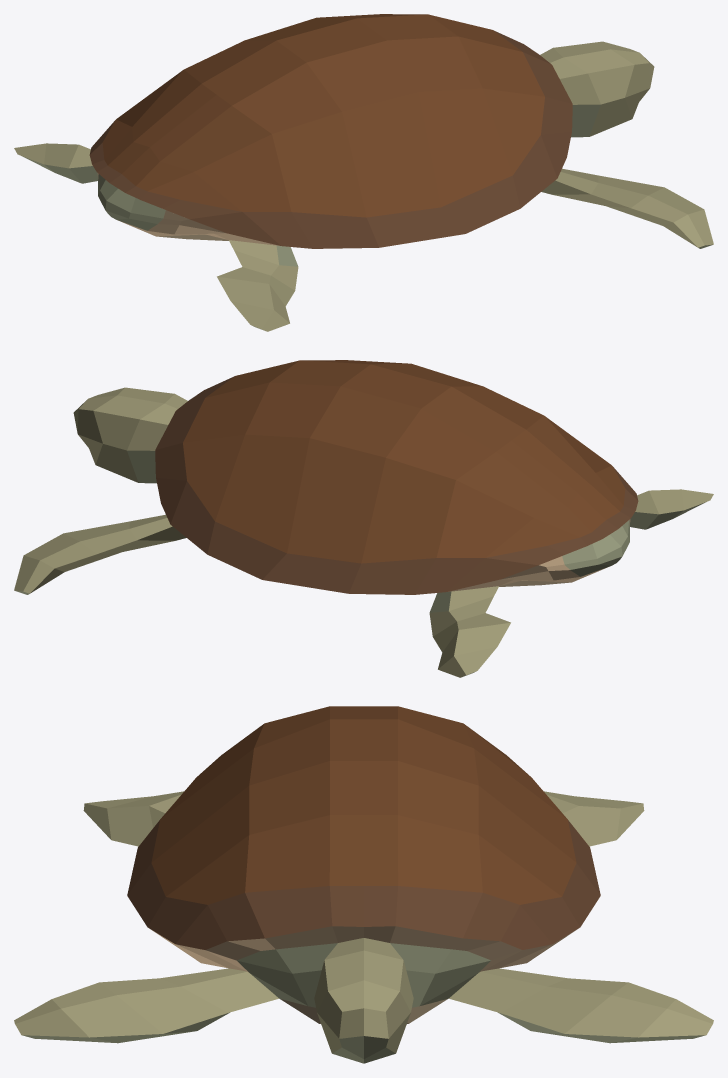
The model's file is turtle.glb.
3 renders of one model, top to bottom at view 1: azimuth 30°, elevation 25°; view 2: azimuth 150°, elevation 25°; view 3: azimuth 270°, elevation 25°, orthographic. The views are drawn at different scales.
Visible parts, largest first — view 1: Plane.001_4; view 2: Plane.001_4; view 3: Plane.001_4.
Boxes of the visible parts, <box> form: Plane.001_4: <box>14,14,713,331</box>; Plane.001_4: <box>14,360,713,677</box>; Plane.001_4: <box>14,706,713,1063</box>.
Bounding box in the file's own units: 4.02 × 1.23 × 3.94.
